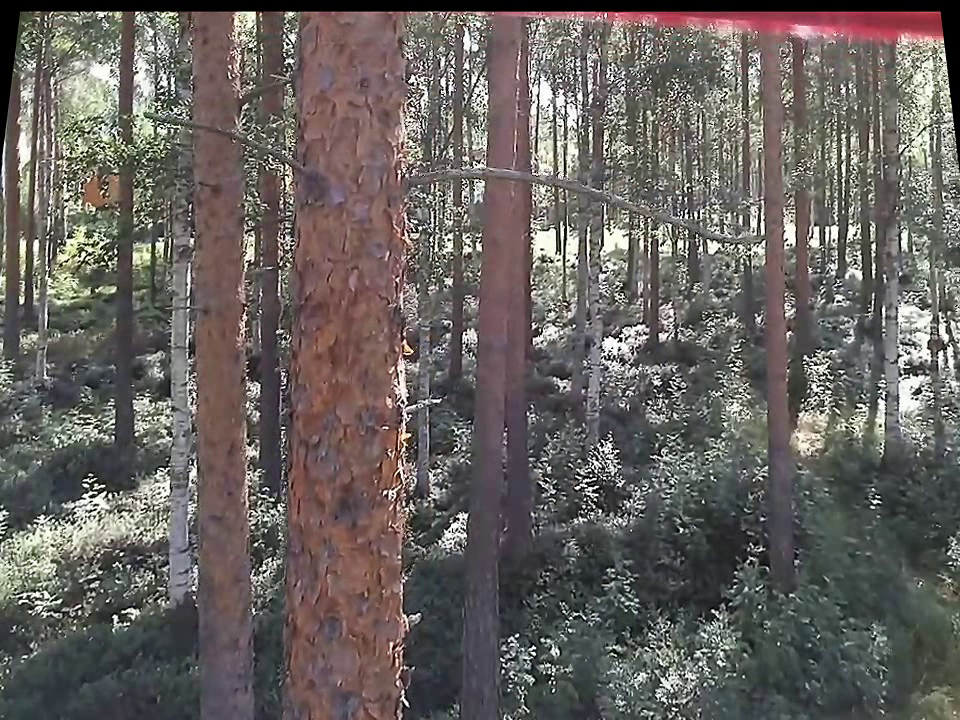branch: (401, 150, 754, 246)
trunk: (262, 35, 405, 715), (441, 29, 541, 712), (167, 15, 260, 704), (738, 26, 805, 590), (866, 50, 921, 459), (96, 19, 147, 458), (568, 76, 619, 453)
